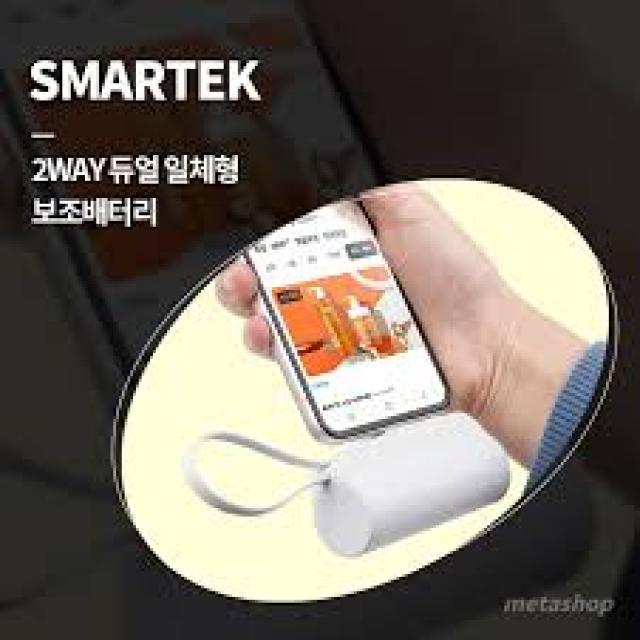portable-charger: (319, 417, 514, 554)
